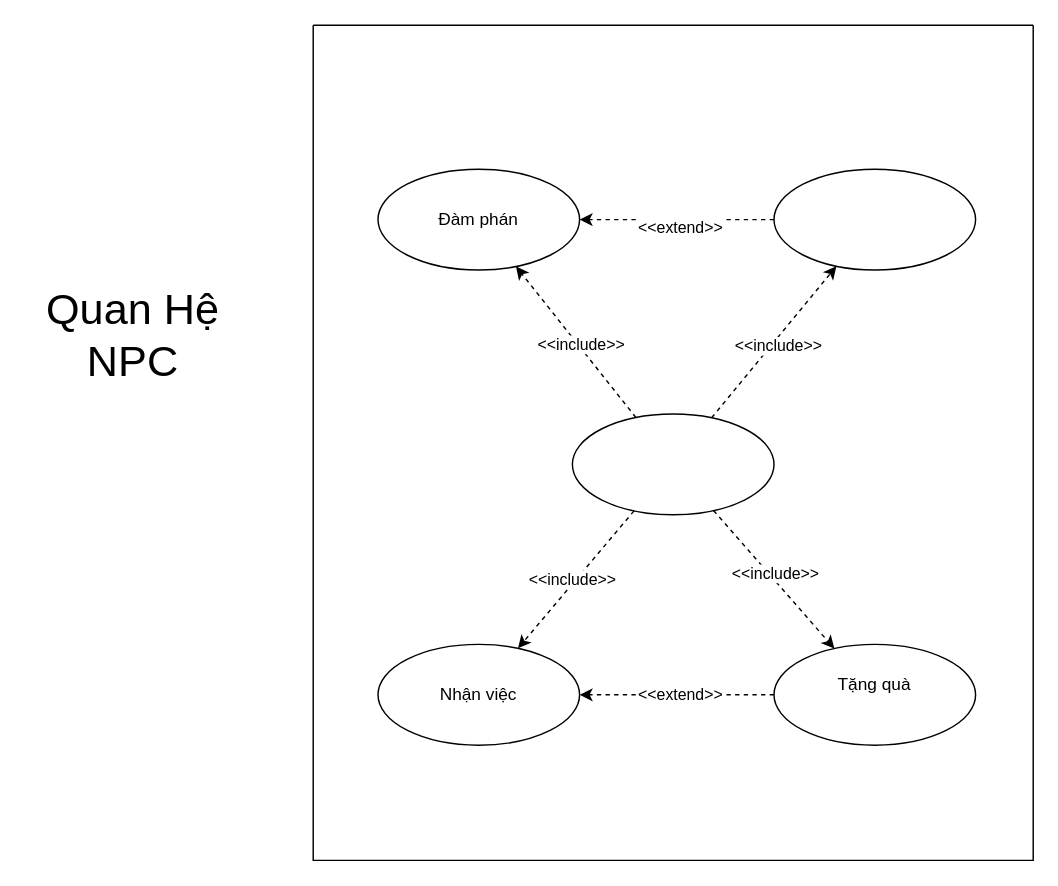
The diagram is 1058 pixels wide and 886 high, and some of its shapes have lost their labels. Each missing label, with the box of its shape:
Mua bán: (773, 168, 976, 270)
Nói chuyện: (571, 413, 774, 515)
